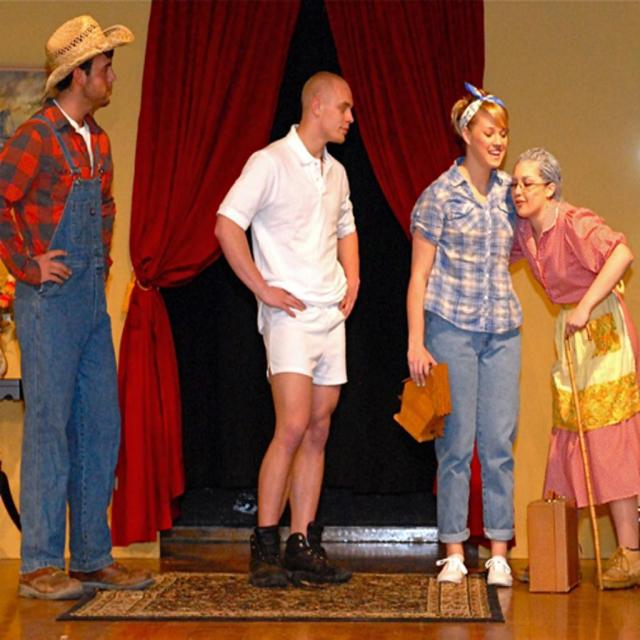nomask: (510, 160, 545, 218), (472, 112, 508, 166), (320, 86, 354, 143), (82, 50, 116, 106)
